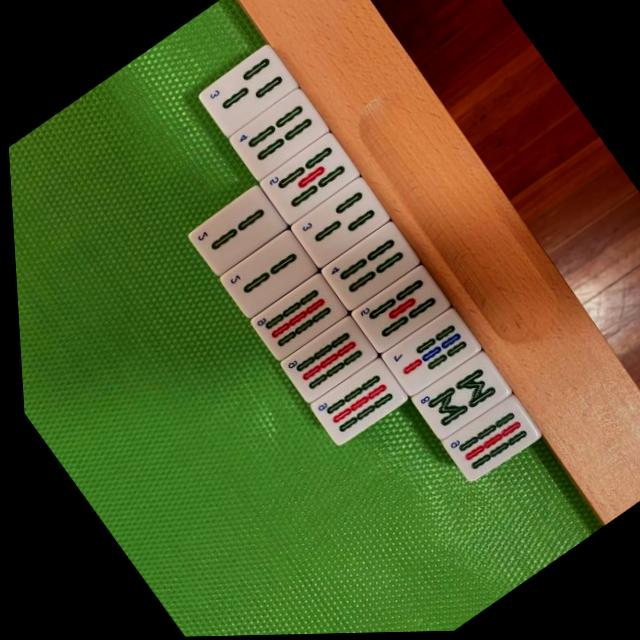sb2: (181, 184, 287, 277), (212, 229, 315, 320)
sb3: (283, 177, 391, 272), (192, 44, 298, 137)
sb4: (222, 89, 330, 183), (313, 222, 419, 314)
sb5: (252, 133, 360, 228), (344, 265, 448, 356)
sb7: (374, 309, 478, 400)
sb8: (402, 352, 508, 443)
sb9: (270, 314, 375, 406), (300, 359, 404, 449), (433, 395, 536, 485), (243, 273, 344, 362)
